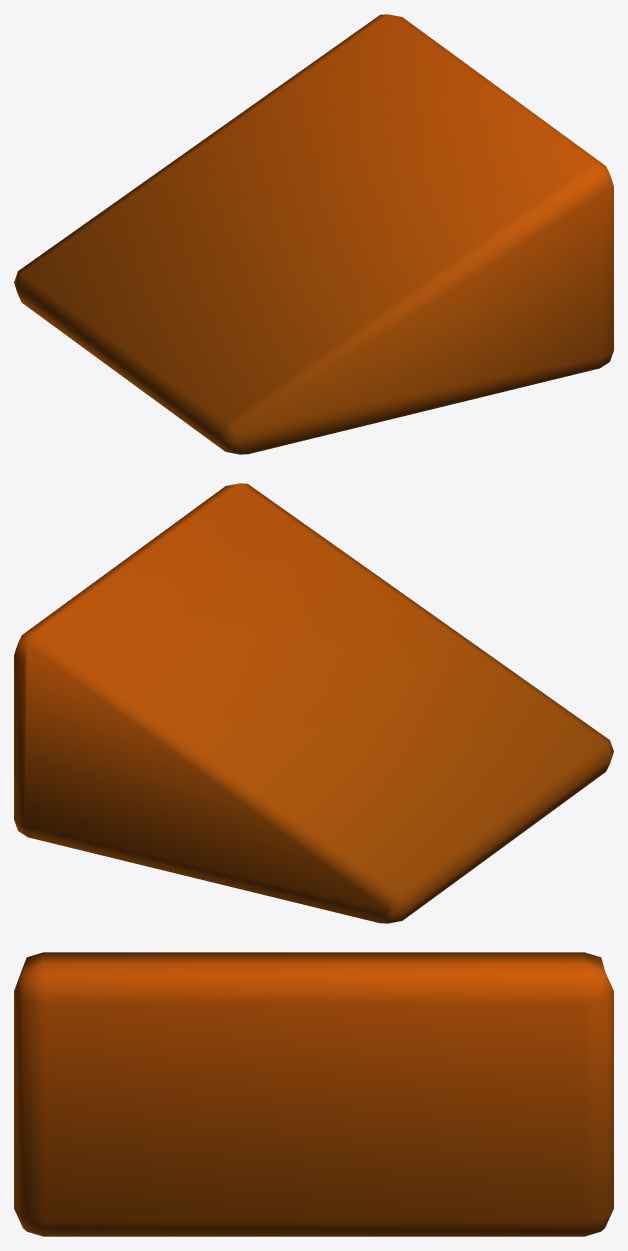
Rendered from 3D_Tile_Ground_Slope_04B.glb.
The picture shows the model from 3 angles, top to bottom: view 1: azimuth 30°, elevation 25°; view 2: azimuth 150°, elevation 25°; view 3: azimuth 270°, elevation 25°; orthographic projection. The views are drawn at different scales.
Parts seen in each view (by area): view 1: 3D_Tile_Ground_Slope_04B; view 2: 3D_Tile_Ground_Slope_04B; view 3: 3D_Tile_Ground_Slope_04B.
Part boxes in pixels (x1,y1,x2,y2): 3D_Tile_Ground_Slope_04B: (14,14,613,454); 3D_Tile_Ground_Slope_04B: (14,483,613,923); 3D_Tile_Ground_Slope_04B: (14,952,613,1236).
Size of the model in its own units: 2 by 1 by 2.
1 material, 1 textured.
